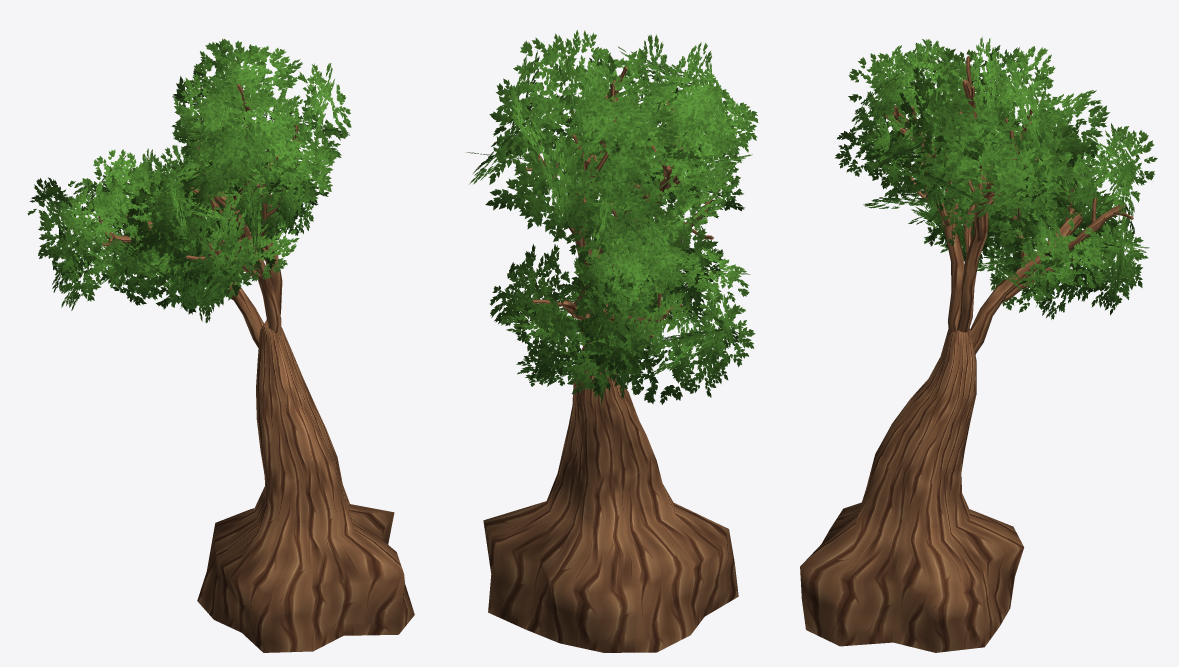
The model's file is ct_birch_1.gltf.
3 views of the same model, side by side, from view 1: azimuth 30°, elevation 25°; view 2: azimuth 150°, elevation 25°; view 3: azimuth 270°, elevation 25° (orthographic). The views are drawn at different scales.
Visible parts, largest first — view 1: ct_birch_1_leaves_LOD0, ct_birch_1_trunk_LOD0; view 2: ct_birch_1_leaves_LOD0, ct_birch_1_trunk_LOD0; view 3: ct_birch_1_leaves_LOD0, ct_birch_1_trunk_LOD0.
Boxes of the visible parts, x1,y1,x2,y2 form: ct_birch_1_leaves_LOD0: [27, 38, 351, 323]; ct_birch_1_trunk_LOD0: [98, 84, 414, 652]; ct_birch_1_leaves_LOD0: [466, 30, 758, 404]; ct_birch_1_trunk_LOD0: [483, 66, 738, 652]; ct_birch_1_leaves_LOD0: [835, 36, 1157, 319]; ct_birch_1_trunk_LOD0: [800, 55, 1133, 652].
Size of what is drawn, in the model's own units: 5.06 by 8.83 by 5.05.
2 materials, 2 textured.
